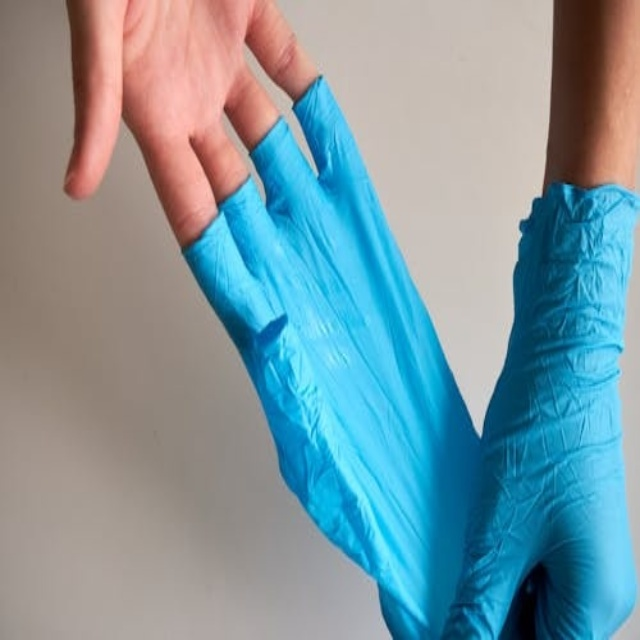Guantes: (435, 181, 637, 634)
Sin_guantes: (60, 1, 312, 249)
